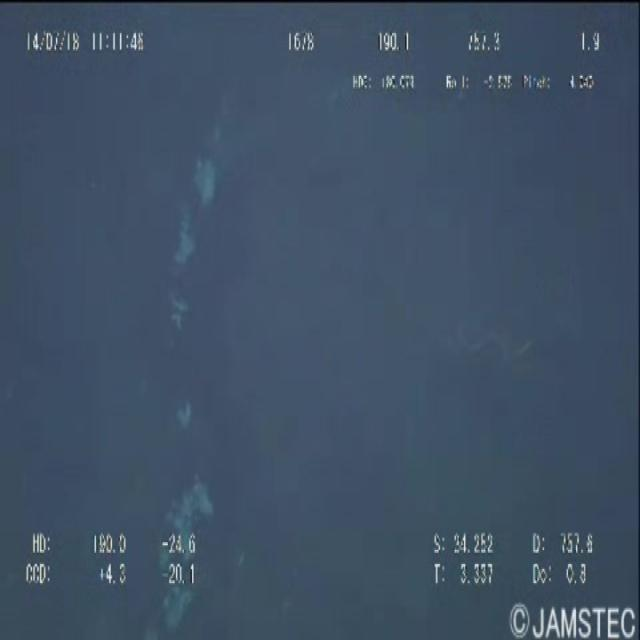Wood: (160, 99, 267, 640)
